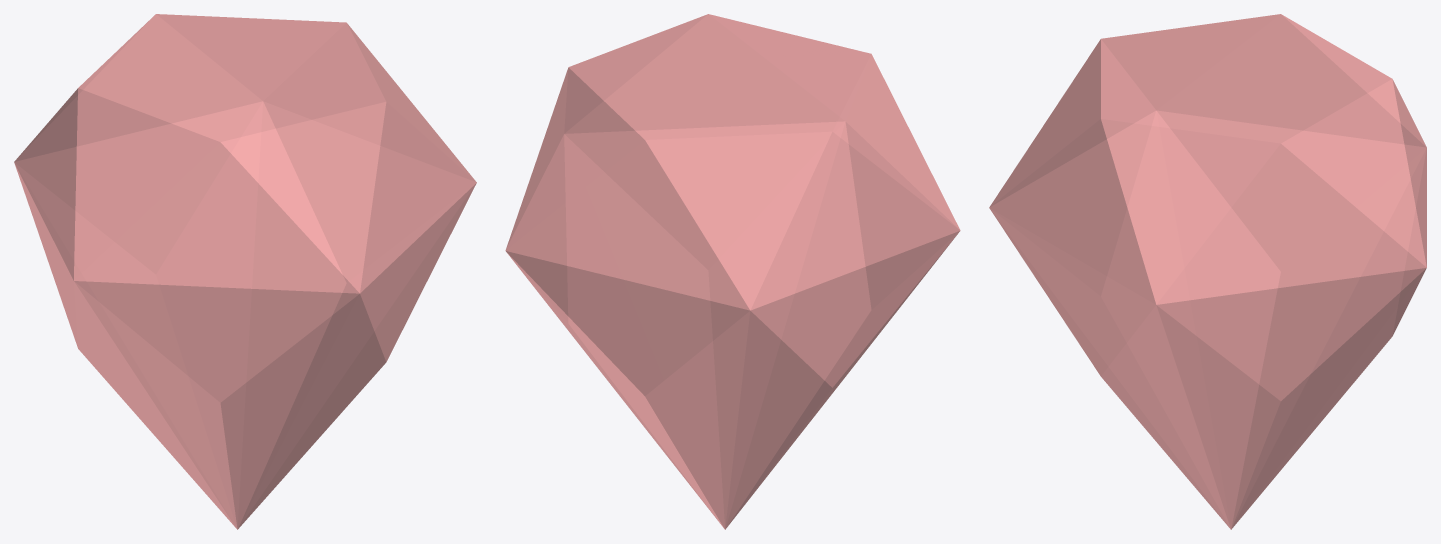
Rendered from PentagonalAntiprism2.obj.
The picture shows the model from 3 angles, left to right: view 1: azimuth 30°, elevation 25°; view 2: azimuth 150°, elevation 25°; view 3: azimuth 270°, elevation 25°; orthographic projection.
Size of the model in its own units: 1.62 by 1.75 by 1.54.
